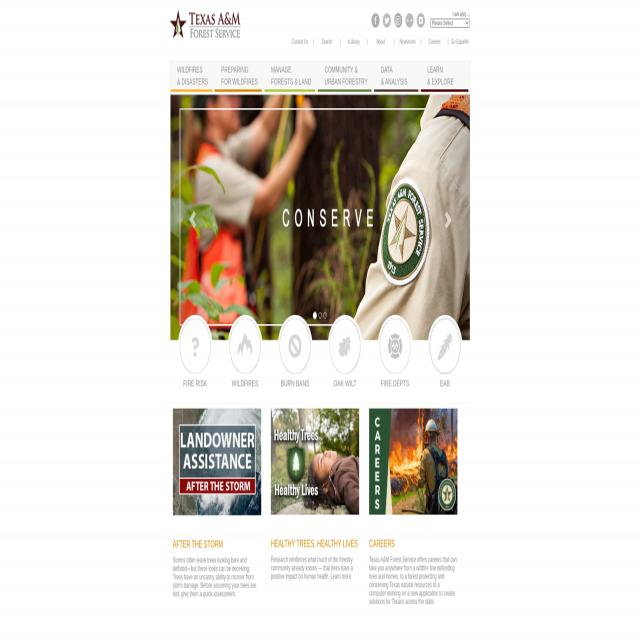button: (170, 95, 470, 340), (173, 408, 261, 516), (271, 409, 359, 515), (369, 409, 457, 515), (170, 3, 257, 38), (178, 315, 212, 377), (228, 315, 262, 377), (278, 315, 312, 377), (328, 315, 362, 377), (378, 315, 412, 377), (428, 315, 462, 377), (318, 62, 374, 90), (264, 62, 318, 90), (214, 62, 264, 90), (374, 62, 420, 90), (421, 62, 467, 90), (170, 62, 215, 90), (184, 202, 202, 238), (438, 204, 455, 239), (383, 13, 391, 28), (394, 13, 402, 28), (406, 13, 414, 28), (417, 13, 425, 28), (372, 13, 379, 28), (311, 308, 317, 321), (318, 309, 323, 321), (323, 310, 328, 320)
field: (430, 18, 470, 28)
